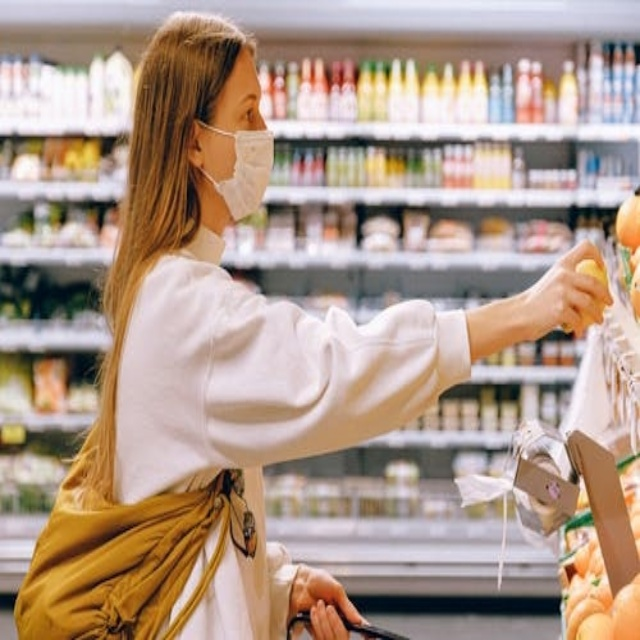Mascara: (196, 120, 275, 223)
Sin_gafas: (211, 83, 269, 123)
Sin_guantes: (516, 240, 611, 343), (285, 563, 367, 640)
